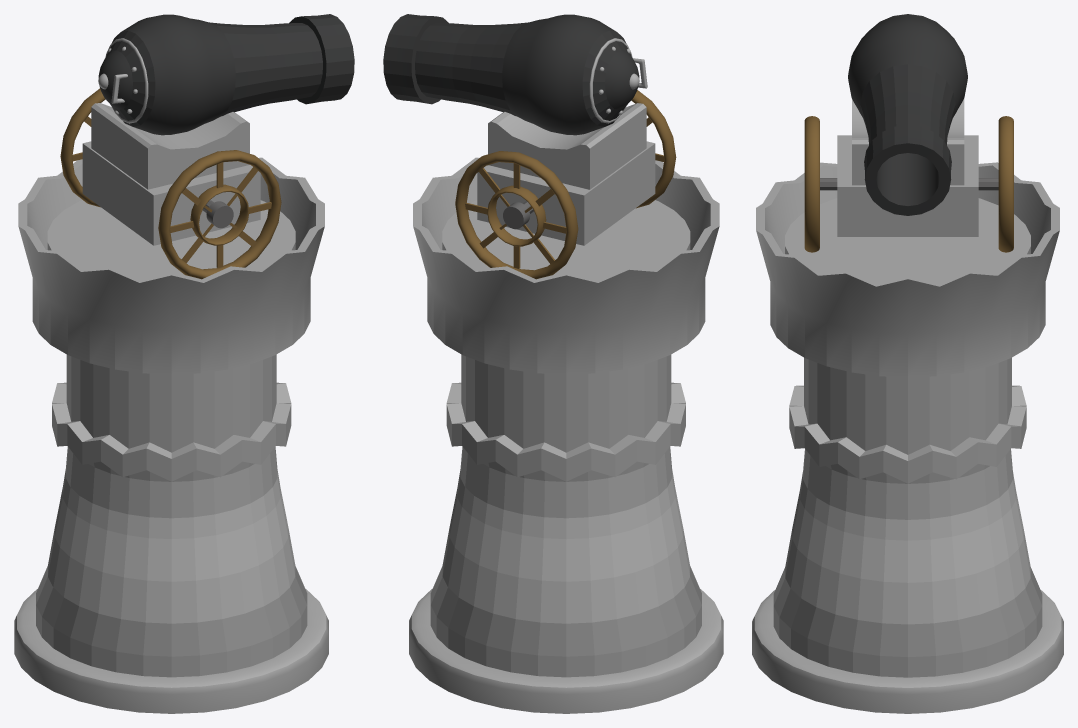
3 views of the same model, side by side, from view 1: azimuth 30°, elevation 25°; view 2: azimuth 150°, elevation 25°; view 3: azimuth 270°, elevation 25° (orthographic).
Visible parts, largest first — view 1: pCylinder4, pSphere3, pCylinder5, pCube51, pCube52, pTorus7, pTorus2, pTorus8, polySurface7; view 2: pCylinder4, pSphere3, pCylinder5, pCube51, pCube52, pTorus2, pTorus7, pTorus3, polySurface5; view 3: pCylinder4, pSphere3, pCylinder5, pCube52, pCube51, pTorus2, pTorus7.
Boxes of the visible parts, x1=… form: pCylinder4: x1=14, y1=157, x2=328, y2=713; pSphere3: x1=98, y1=14, x2=354, y2=135; pCylinder5: x1=47, y1=200, x2=295, y2=279; pCube51: x1=91, y1=103, x2=249, y2=189; pCube52: x1=82, y1=141, x2=260, y2=245; pTorus7: x1=158, y1=150, x2=281, y2=279; pTorus2: x1=60, y1=88, x2=105, y2=207; pTorus8: x1=190, y1=184, x2=249, y2=245; polySurface7: x1=206, y1=201, x2=233, y2=228; pCylinder4: x1=409, y1=157, x2=723, y2=713; pSphere3: x1=383, y1=14, x2=639, y2=135; pCylinder5: x1=442, y1=200, x2=690, y2=279; pCube51: x1=488, y1=103, x2=646, y2=189; pCube52: x1=477, y1=141, x2=655, y2=245; pTorus2: x1=455, y1=151, x2=578, y2=279; pTorus7: x1=631, y1=90, x2=676, y2=208; pTorus3: x1=487, y1=185, x2=546, y2=246; polySurface5: x1=503, y1=202, x2=530, y2=229; pCylinder4: x1=752, y1=162, x2=1063, y2=713; pSphere3: x1=848, y1=14, x2=967, y2=215; pCylinder5: x1=785, y1=198, x2=1030, y2=282; pCube52: x1=837, y1=135, x2=978, y2=236; pCube51: x1=852, y1=98, x2=964, y2=185; pTorus2: x1=998, y1=116, x2=1013, y2=252; pTorus7: x1=804, y1=116, x2=819, y2=252.
Size of the model in its own units: 12.6 by 24.99 by 11.34.
